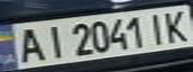0: (90, 17, 112, 54)
1: (124, 14, 148, 48)
2: (66, 19, 93, 57)
4: (109, 15, 130, 51)
A: (12, 25, 48, 64)
I: (39, 22, 69, 60), (142, 10, 172, 45)
K: (160, 7, 193, 43)
